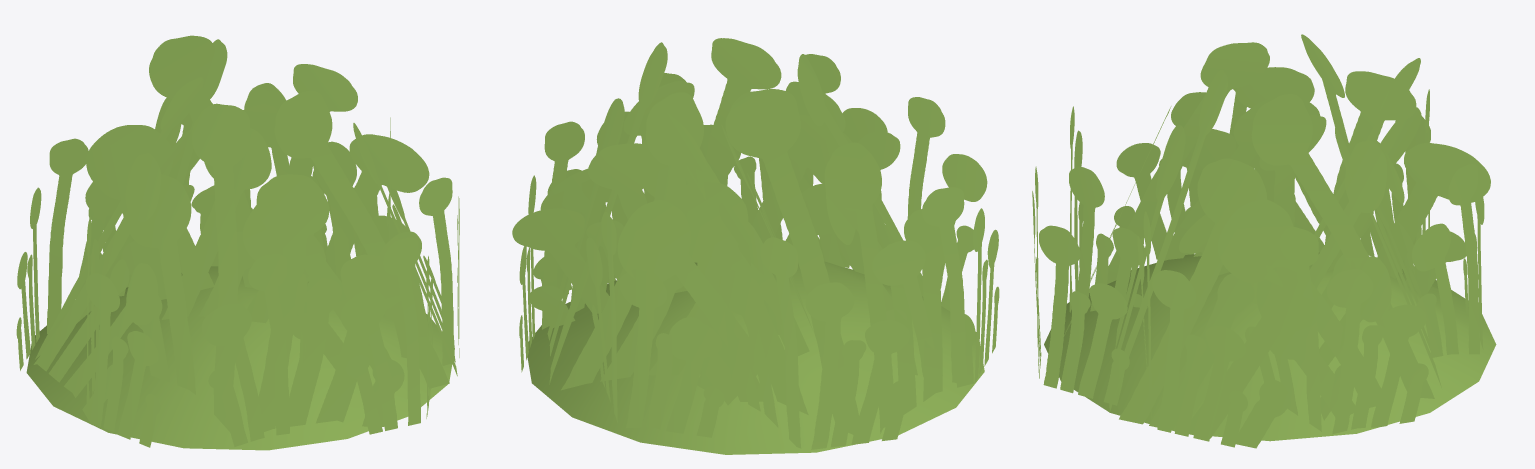
The model's file is SM_Moss_02.fbx.
3 renders of one model, left to right at view 1: azimuth 30°, elevation 25°; view 2: azimuth 150°, elevation 25°; view 3: azimuth 270°, elevation 25°, orthographic. The views are drawn at different scales.
Visible parts, largest first — view 1: SM_Moss_02; view 2: SM_Moss_02; view 3: SM_Moss_02.
Part boxes in pixels (x1,y1,x2,y2): SM_Moss_02: [16, 35, 459, 450]; SM_Moss_02: [512, 38, 999, 454]; SM_Moss_02: [1032, 34, 1496, 448].
Size of the model in its own units: 23.69 by 15.87 by 23.47.
